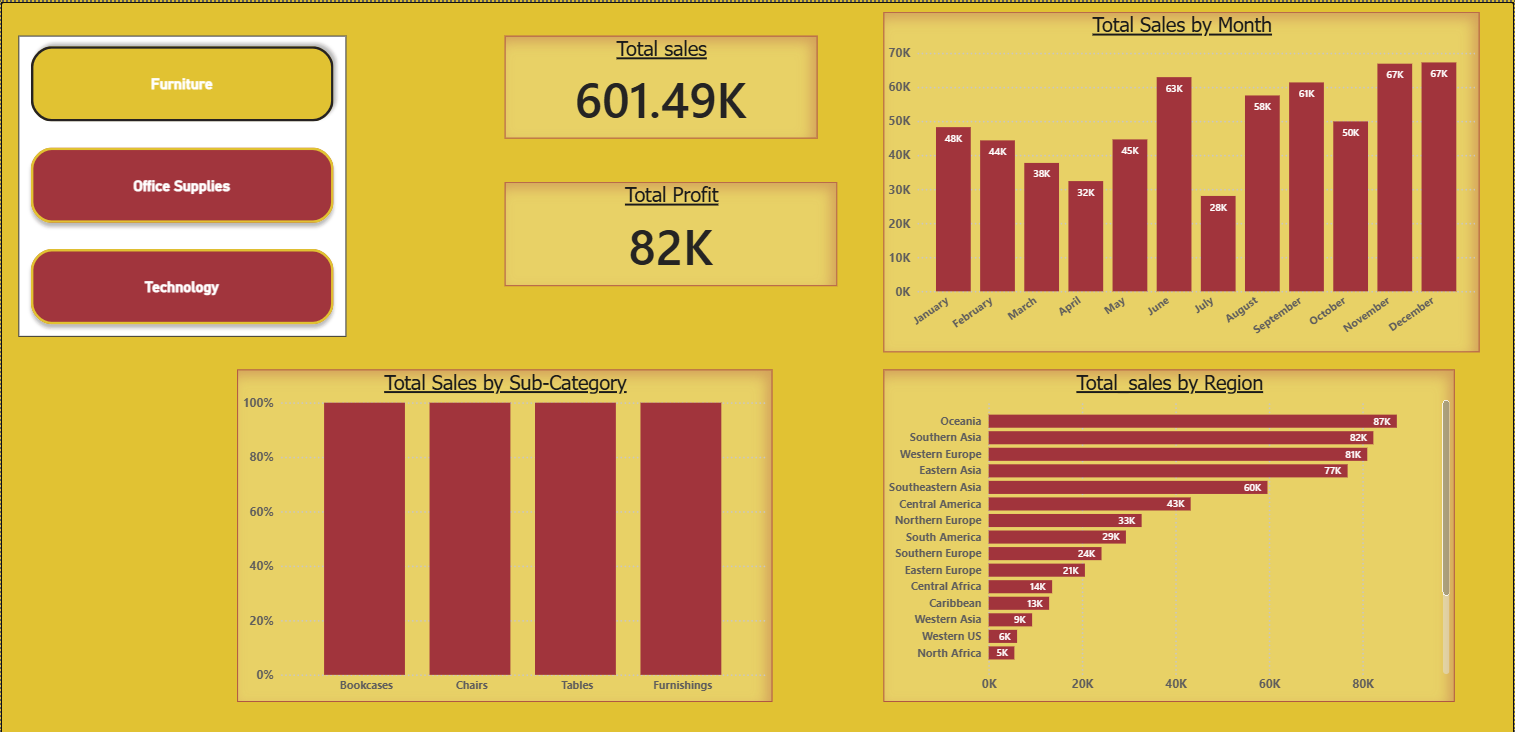

The page's visual inventory and layout, read from the dashboard file:
{"tool":"powerbi","page":{"name":"Page 1","canvas":[1280,720],"ordinal":0},"visuals":[{"type":"card","title":"Total sales","fields":{"Values":["Global_Superstore(CSV).Total_sales"]},"box":[344.8,33,247,126],"z":0},{"type":"card","title":"Total Profit","fields":{"Values":["Global_Superstore(CSV).Total_profit"]},"box":[321.6,199.3,292.3,126],"z":1000},{"type":"clusteredColumnChart","fields":{"Category":["Global_Superstore(CSV).Order Date.Variation.Date Hierarchy.Month"],"Y":["Sum(Global_Superstore(CSV).Sales)"]},"box":[650.5,41.6,620,293.5],"z":2000},{"type":"clusteredBarChart","fields":{"Category":["Global_Superstore(CSV).Region"],"Y":["Global_Superstore(CSV).Total_sales"]},"box":[680.6,370.5,559.9,286.8],"z":3000},{"type":"advancedSlicerVisual","fields":{"Values":["Global_Superstore(CSV).Category"]},"box":[22,41.6,200.5,234.8],"z":4000},{"type":"hundredPercentStackedColumnChart","title":"Total Sales by Sub-Category","fields":{"Category":["Global_Superstore(CSV).Sub-Category"],"Y":["Sum(Global_Superstore(CSV).Sales)"]},"box":[211.3,359.5,446,323.8],"z":5000}]}

Visuals, with their boxes on the page's 1280x720 design canvas (x1, y1, x2, y2). These are canvas units, not pixel positions in the 1515x732 screenshot, which may show the page scaled, cropped or inside an application window:
"Total sales" card: 345,33,592,159
"Total Profit" card: 322,199,614,325
clusteredColumnChart - Global_Superstore(CSV).Order Date.Variation.Date Hierarchy.Month x Sum(Global_Superstore(CSV).Sales): 650,42,1270,335
clusteredBarChart - Global_Superstore(CSV).Region x Global_Superstore(CSV).Total_sales: 681,370,1240,657
advancedSlicerVisual - Global_Superstore(CSV).Category: 22,42,222,276
"Total Sales by Sub-Category" hundredPercentStackedColumnChart: 211,360,657,683
